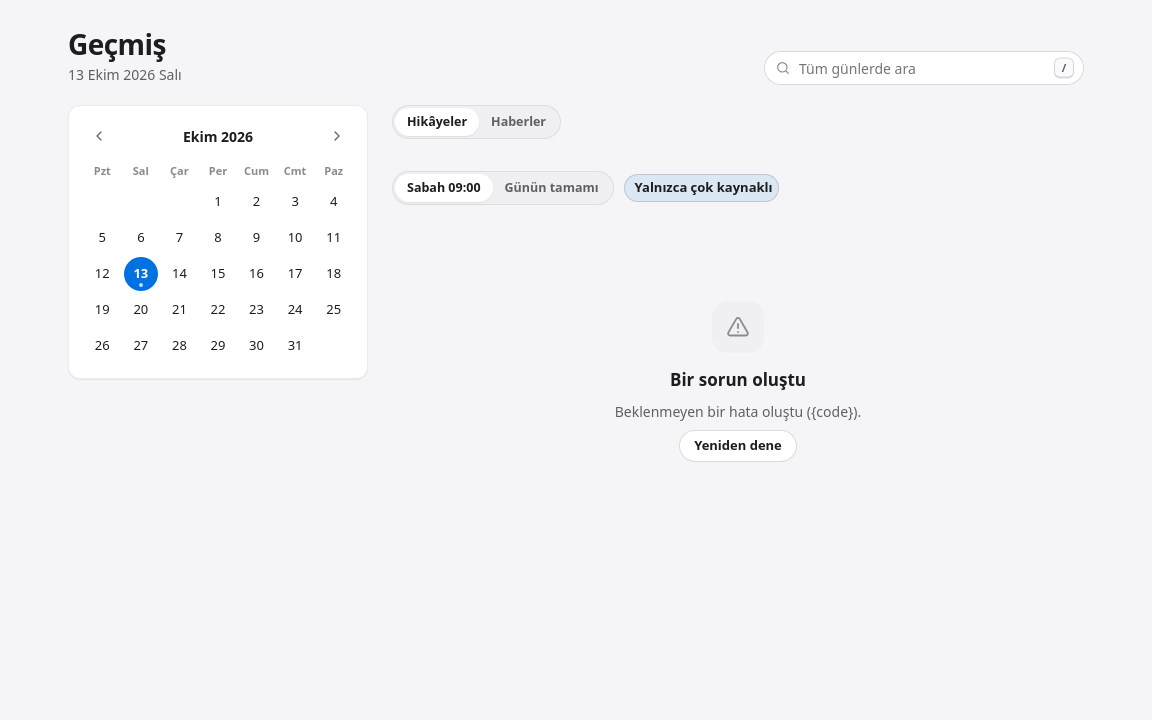
History page › offers a retry when the day cannot be loaded
Click the button "Yeniden dene" at (738, 446), box [679, 430, 797, 462]
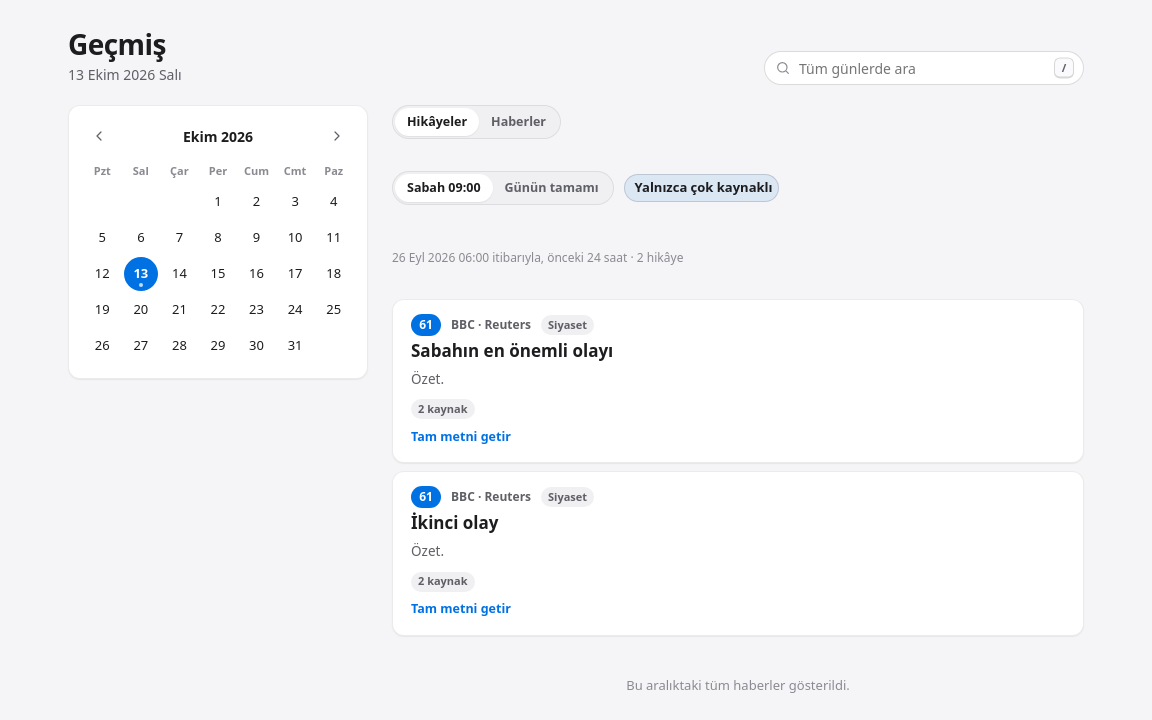
Expected: the button "Sabahın en önemli olayı" is shown, [411, 340, 613, 363]
